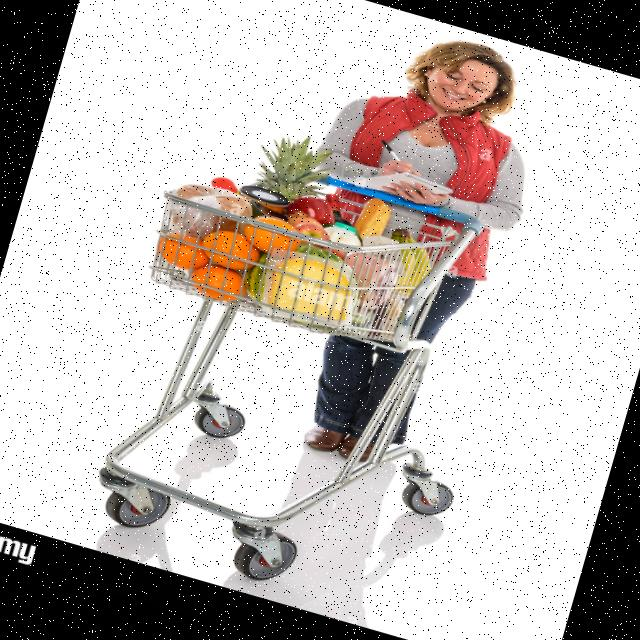Person: (239, 8, 563, 486)
